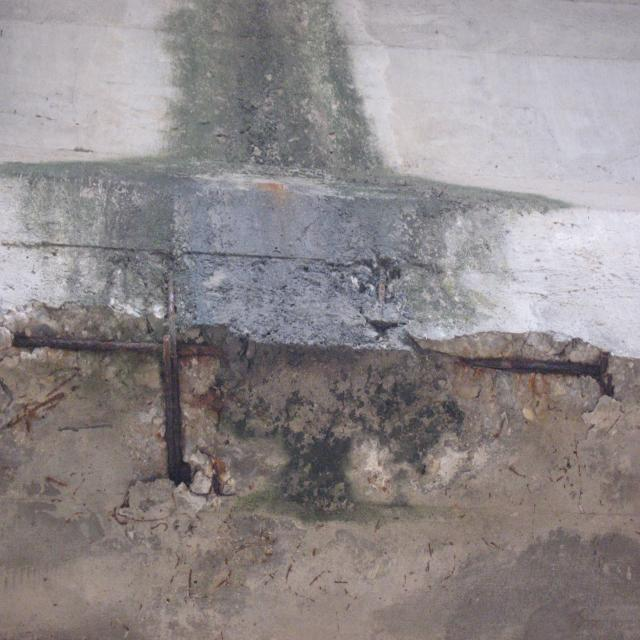corrosion: (9, 265, 224, 499), (416, 310, 637, 416), (363, 253, 401, 320), (236, 167, 302, 203)
